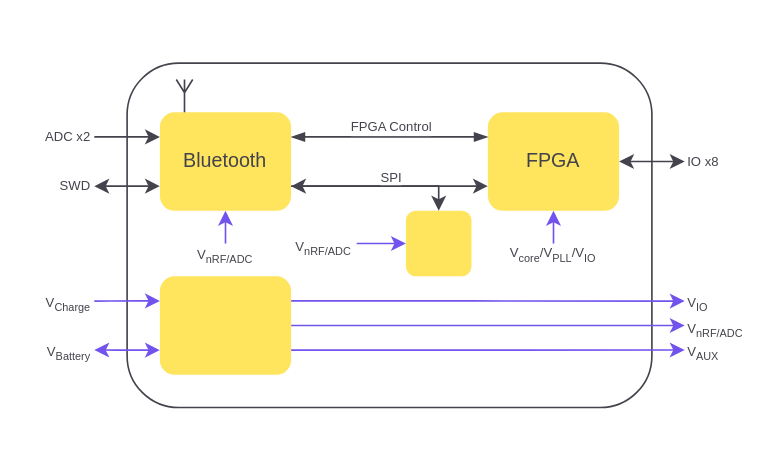
This 777x467 diagram has some shape labels left out. The box of each missing label's shape, as (x1, y1, x2, y2) in pixels:
Flash: (405, 210, 471, 276)
PMIC: (159, 276, 290, 374)
